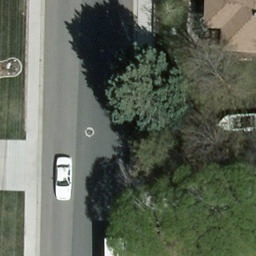car: (53, 157, 73, 203)
